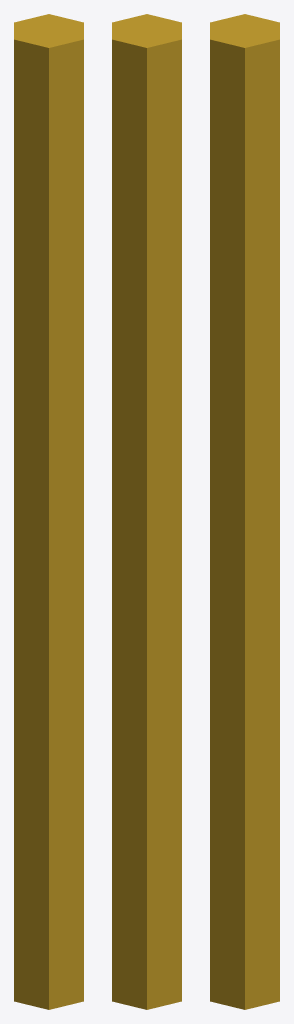
The model's file is jp_bedroom_pencil_body.glb.
3 renders of one model, left to right at view 1: azimuth 30°, elevation 25°; view 2: azimuth 150°, elevation 25°; view 3: azimuth 330°, elevation 25°, orthographic.
Parts seen in each view (by area): view 1: pencil_body; view 2: pencil_body; view 3: pencil_body.
Part boxes in pixels (x1,y1,x2,y2): pencil_body: (14, 14, 83, 1009); pencil_body: (112, 14, 181, 1009); pencil_body: (210, 14, 279, 1009).
Size of the model in its own units: 0.00765 by 0.1008 by 0.00663.
